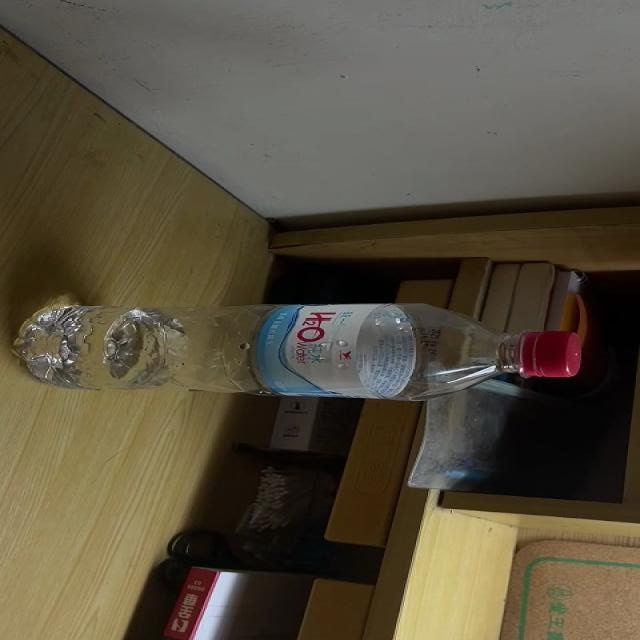Water: (11, 300, 581, 401)
